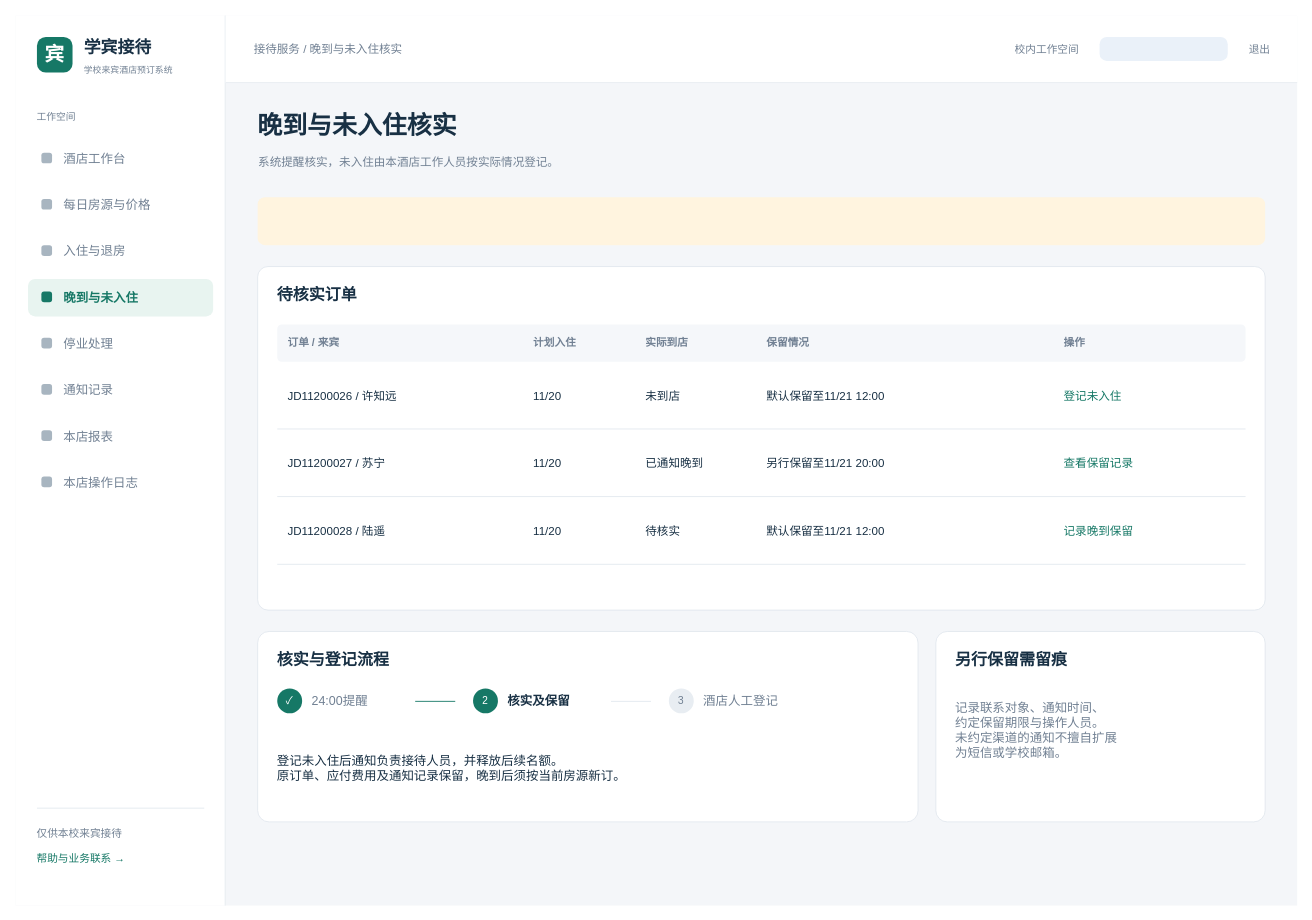
Some shapes in this 1312 by 920 pixel diagram are drawn without their labels. Here are the shapes that lost their labels. From the top down, the centre of each, then its label:
At (1163,48): "酒店工作人员".
At (761,221): "11月21日 12:30 · 请核实实际到店情况。凌晨核实提醒不会自动将订单变为未入住。".
